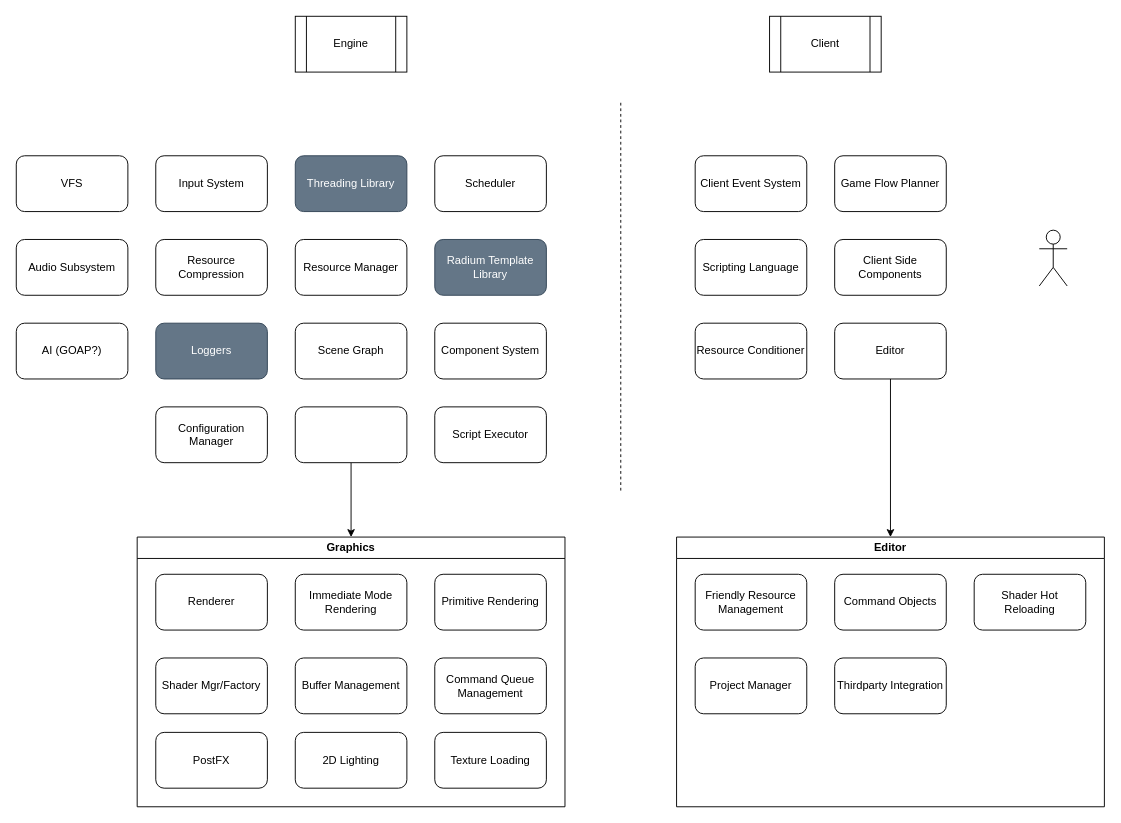
Some shapes in this 1121 by 823 pixel diagram are drawn without their labels. The shapes that lost their labels are listed below. From the top down, each one's centre as x and y in pixels, then its label:
(x=1052, y=257): Bob
(x=350, y=434): Graphics Subsystem
